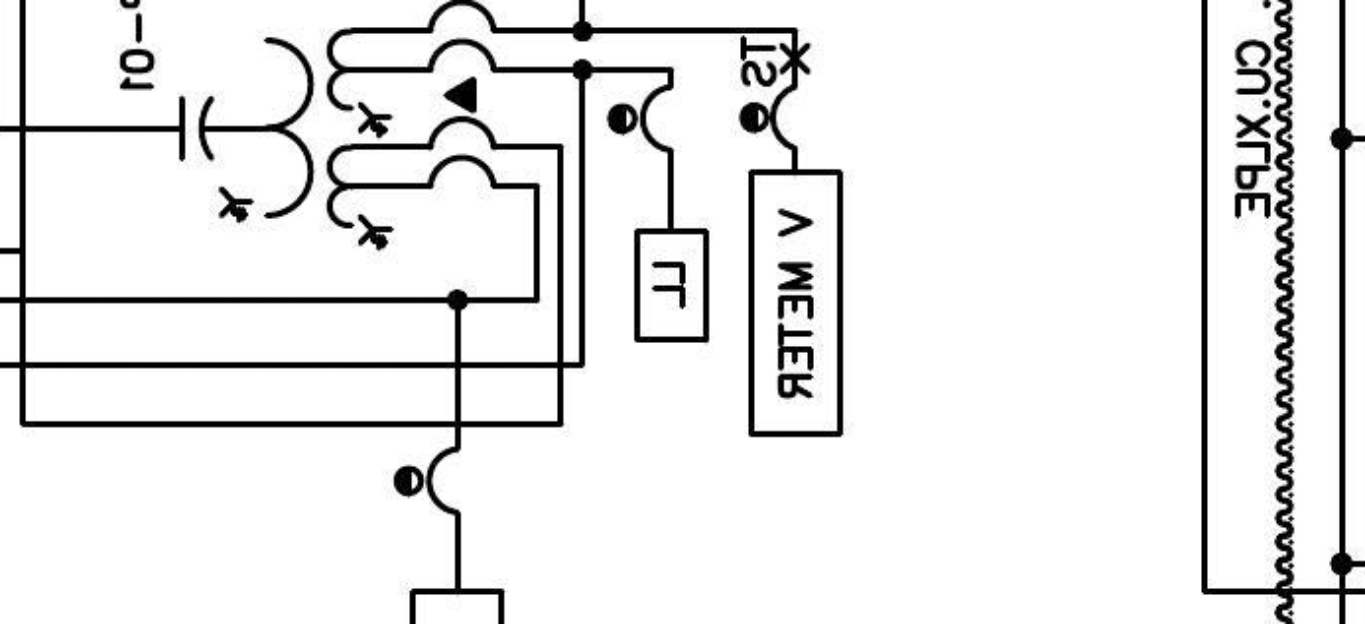LL: (632, 227, 712, 345)
v_m_digital: (747, 167, 845, 439)
